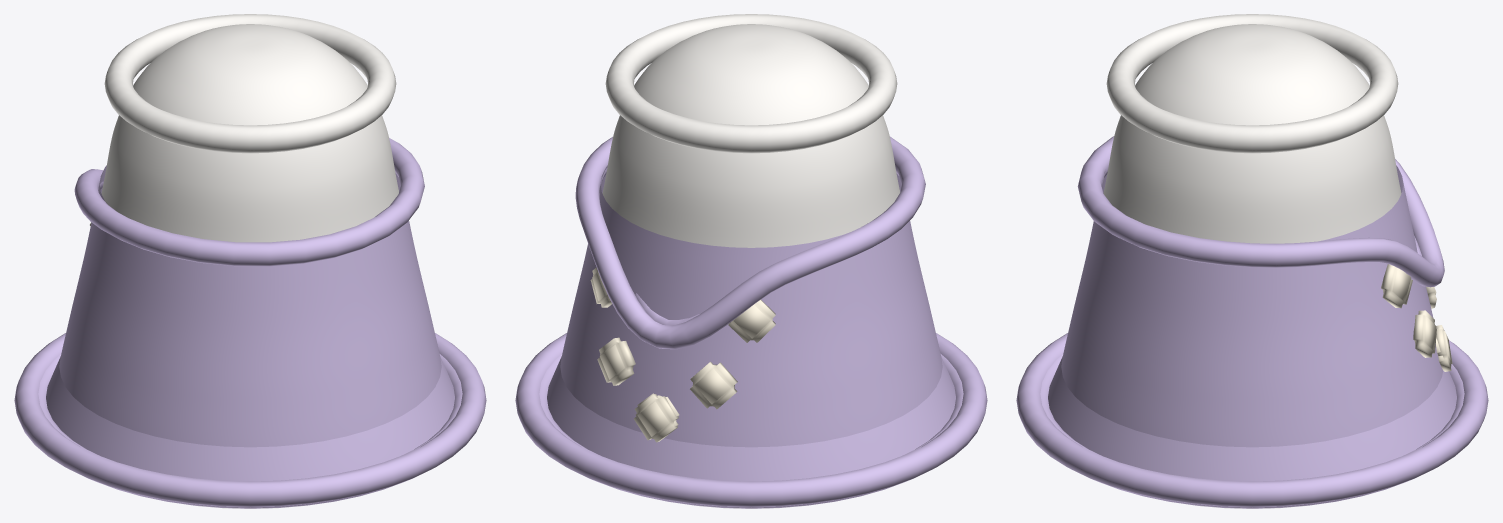
File: sweater_vest.glb
3 views of the same model, side by side, from view 1: azimuth 30°, elevation 25°; view 2: azimuth 150°, elevation 25°; view 3: azimuth 270°, elevation 25° (orthographic).
Parts seen in each view (by area): view 1: BodyBoy, BodyGirl; view 2: BodyBoy, BodyGirl; view 3: BodyBoy, BodyGirl.
Part boxes in pixels (left/top/right/bottom): BodyBoy: left=38, top=14, right=462, bottom=508; BodyGirl: left=14, top=333, right=486, bottom=508; BodyBoy: left=539, top=14, right=963, bottom=508; BodyGirl: left=515, top=293, right=987, bottom=508; BodyBoy: left=1040, top=14, right=1464, bottom=508; BodyGirl: left=1016, top=236, right=1488, bottom=508.
Bounding box in the file's own units: 0.4678 × 0.4132 × 0.4678.
